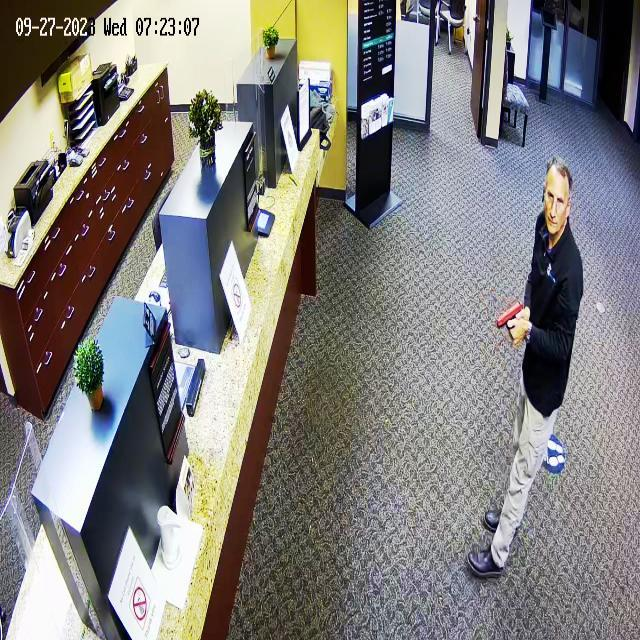Gun: (479, 284, 538, 352)
